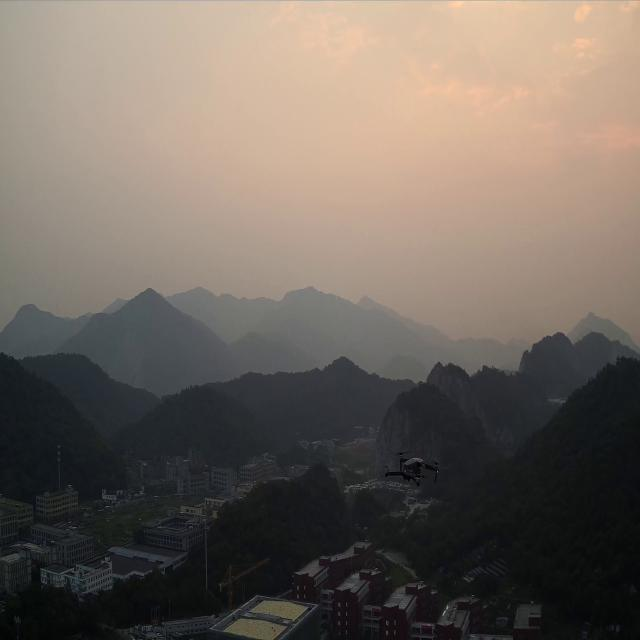UAV: (384, 451, 439, 488)
